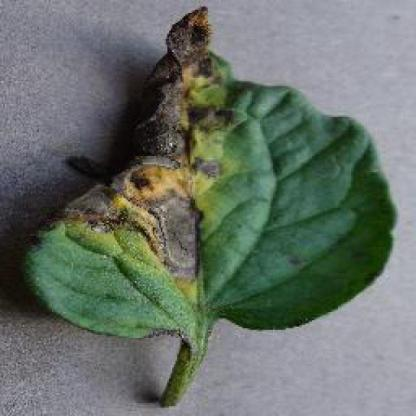Tomato_Blight: (29, 8, 392, 340)
